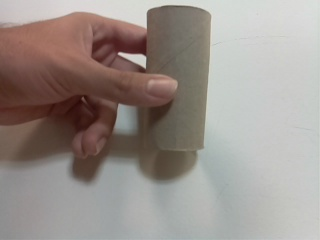rollo papel: (142, 4, 214, 152)
